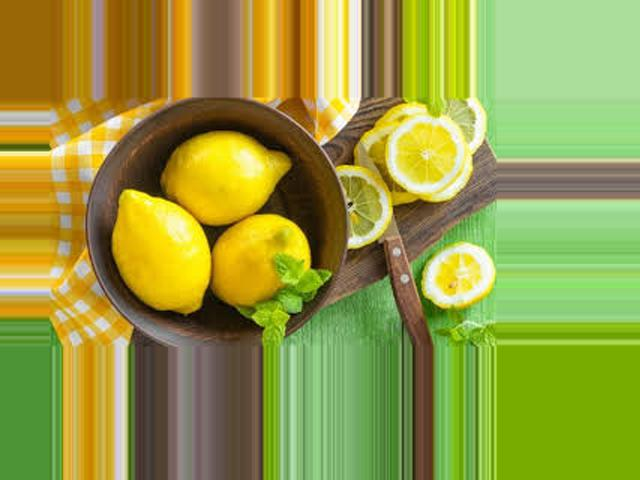lemon: (94, 180, 222, 326)
